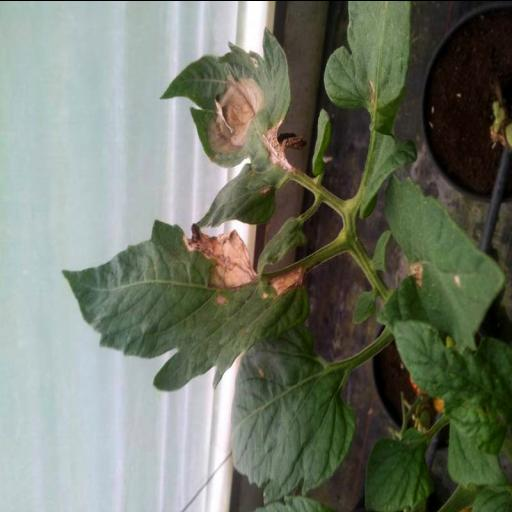Late Blight: (63, 212, 307, 390), (158, 27, 294, 174)
